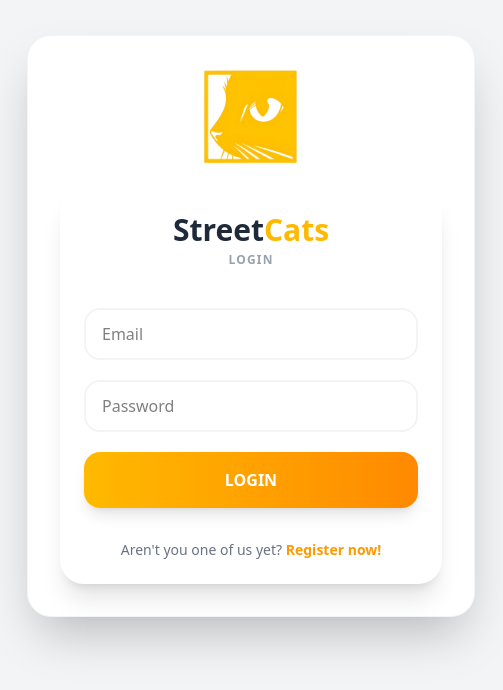
it: StreetCats E2E - Real Integration Suite › 2. Login: should show error message if Yup fields are empty
This screenshot has width=503, height=690.
What coordinates should you click on to do the following:
click the submit button
I would click on:
 (251, 480)
Its box is top-left (84, 452), bottom-right (418, 508).
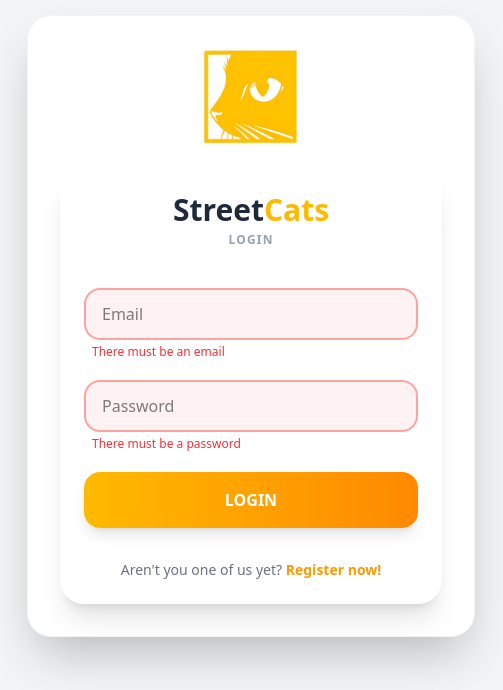
Check: the text "There must be an email" is shown, box top-left (92, 343), bottom-right (225, 360)
Check: the text "There must be a password" is shown, box top-left (92, 435), bottom-right (241, 452)
